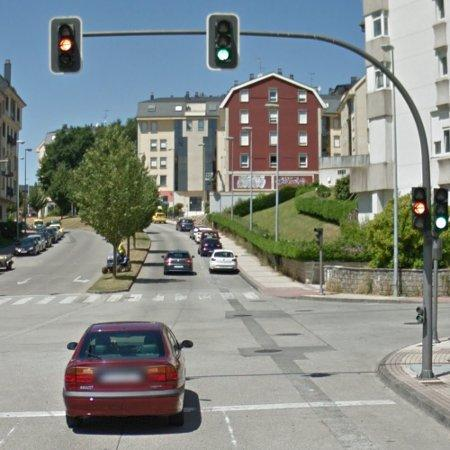crosswalks: (1, 292, 265, 305)
